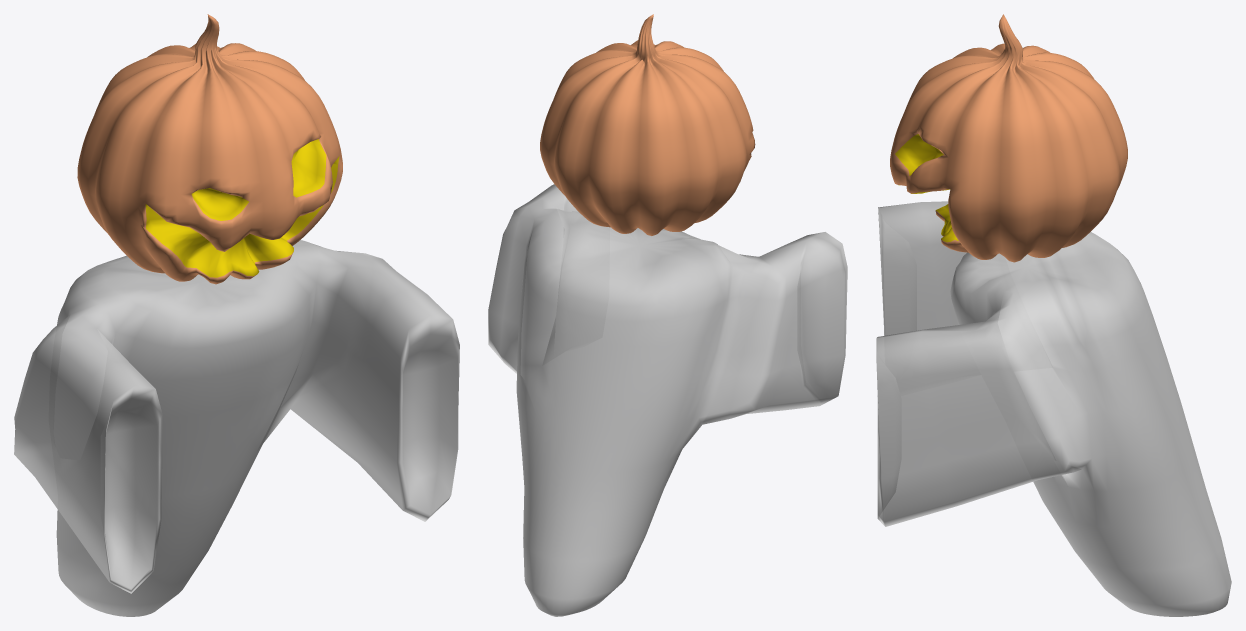
The model's file is SM_Monster.fbx.
3 views of the same model, side by side, from view 1: azimuth 30°, elevation 25°; view 2: azimuth 150°, elevation 25°; view 3: azimuth 270°, elevation 25° (orthographic). The views are drawn at different scales.
Parts seen in each view (by area): view 1: SM_JackOLantern; view 2: SM_JackOLantern; view 3: SM_JackOLantern.
Boxes of the visible parts, x1,y1,x2,y2 form: SM_JackOLantern: [14, 14, 459, 616]; SM_JackOLantern: [488, 14, 847, 616]; SM_JackOLantern: [876, 14, 1231, 616].
Size of the model in its own units: 174 by 312 by 169.
